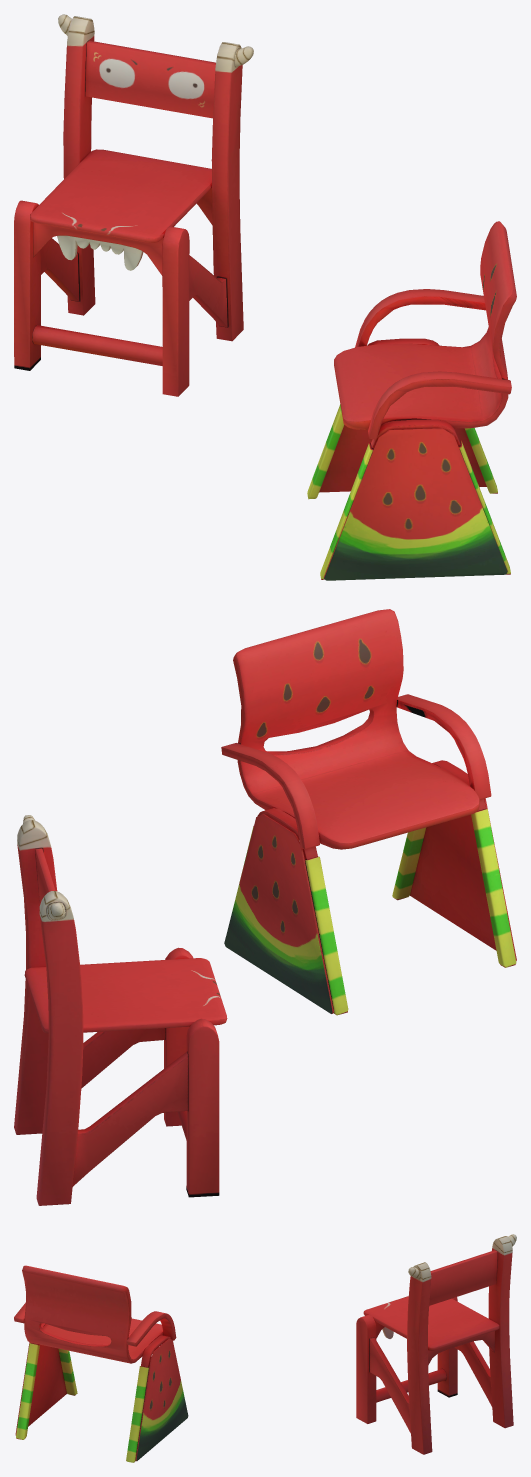
Rendered from Chair_LOD4.glb.
The picture shows the model from 3 angles, top to bottom: view 1: azimuth 30°, elevation 25°; view 2: azimuth 150°, elevation 25°; view 3: azimuth 270°, elevation 25°; orthographic projection. The views are drawn at different scales.
Parts seen in each view (by area): view 1: Chair 1_Retopo.001_LOD4; view 2: Chair 1_Retopo.001_LOD4; view 3: Chair 1_Retopo.001_LOD4.
Boxes of the visible parts, x1,y1,x2,y2 form: Chair 1_Retopo.001_LOD4: [14, 14, 516, 580]; Chair 1_Retopo.001_LOD4: [14, 609, 516, 1205]; Chair 1_Retopo.001_LOD4: [14, 1234, 516, 1462].
Size of the model in its own units: 0.8646 by 0.9971 by 2.44.
1 material, 1 textured.
